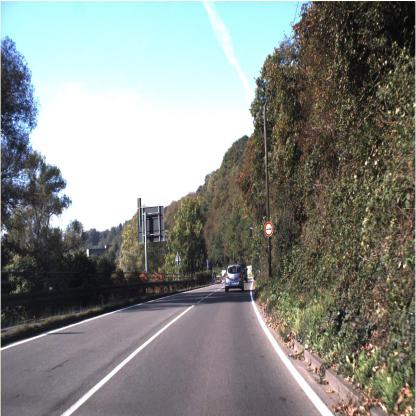prohibitory: (263, 217, 276, 240)
